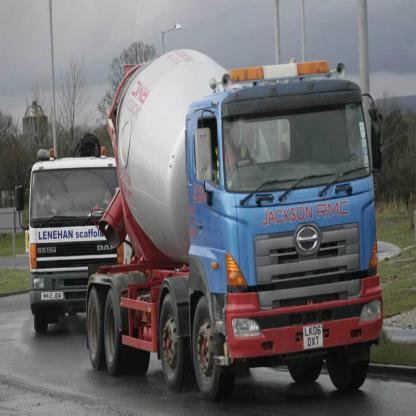Truck: (86, 49, 384, 400)
